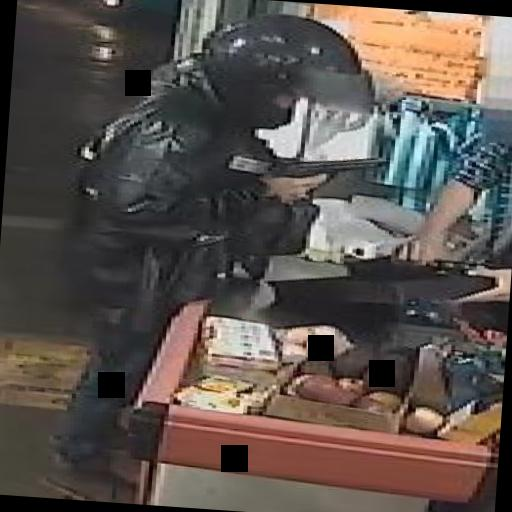Handgun: (262, 146, 390, 202)
